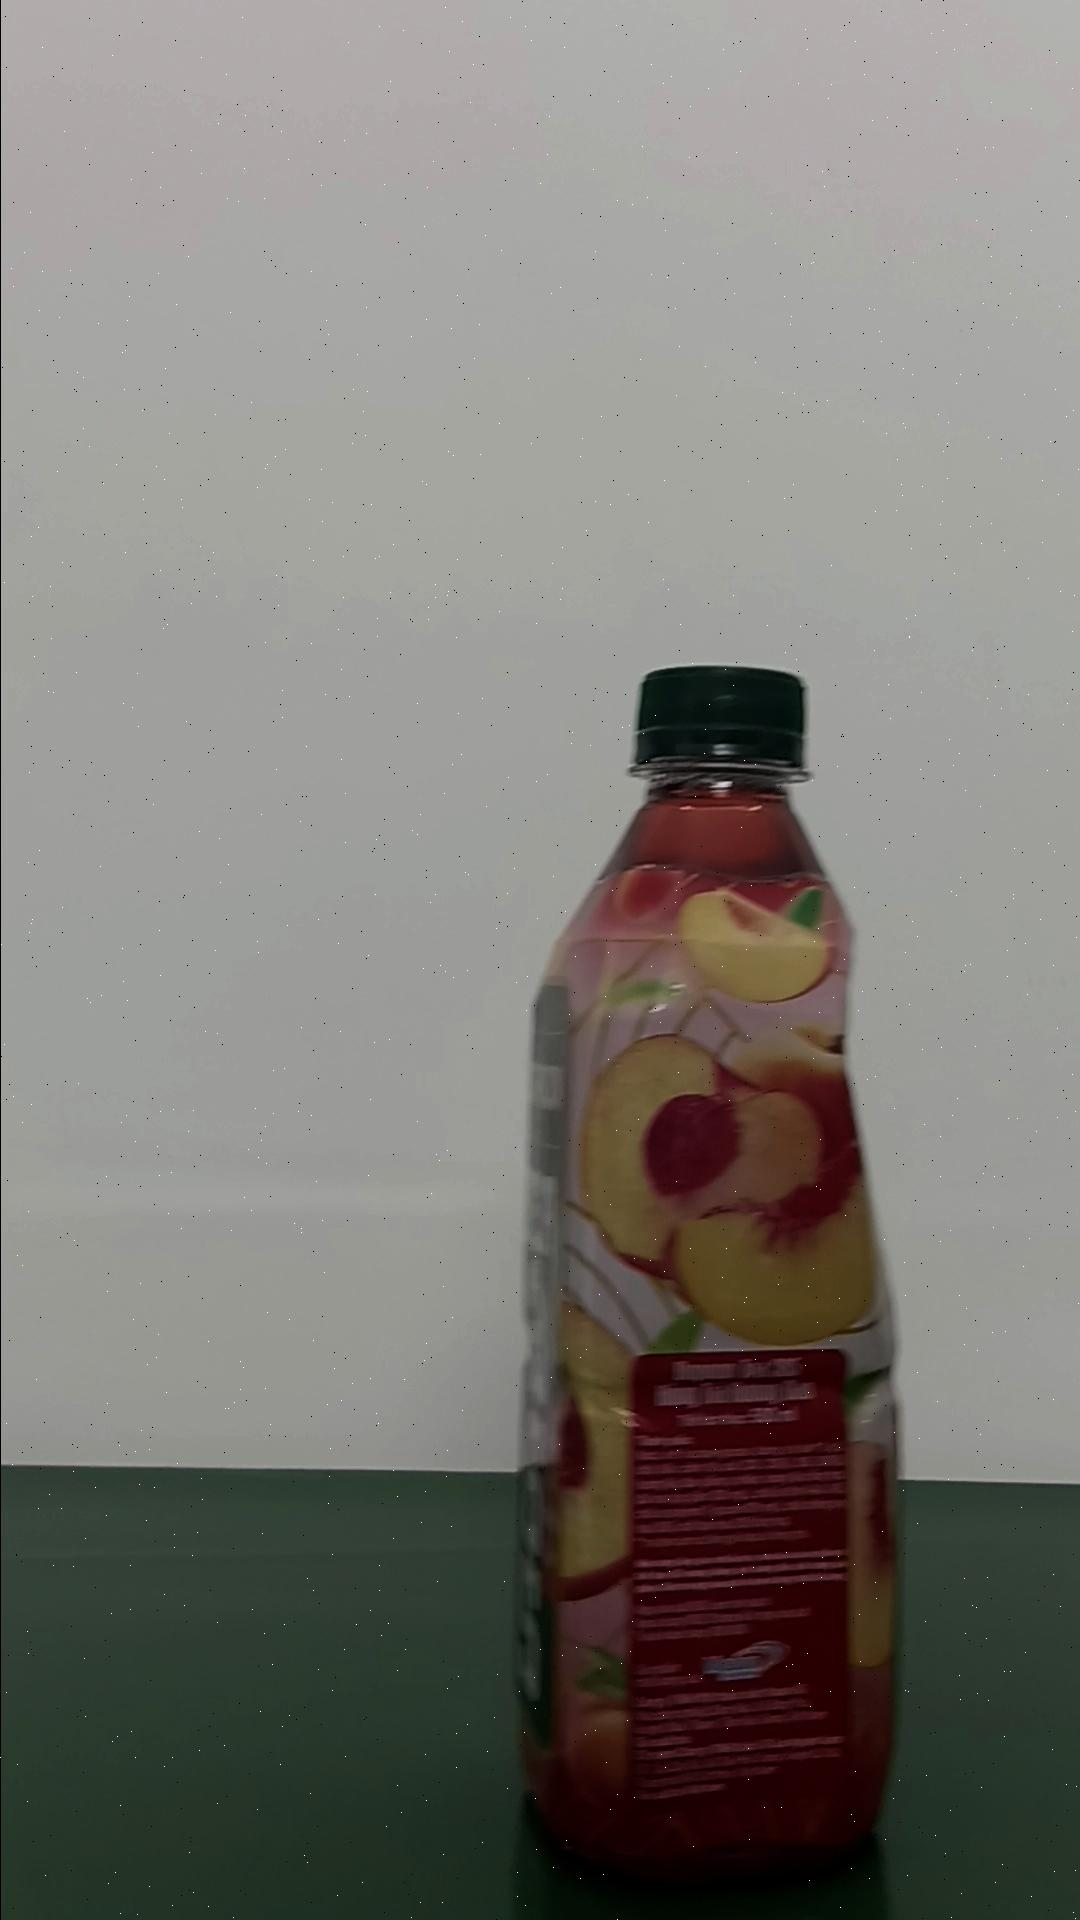loi meo sp: (509, 661, 905, 1884)
